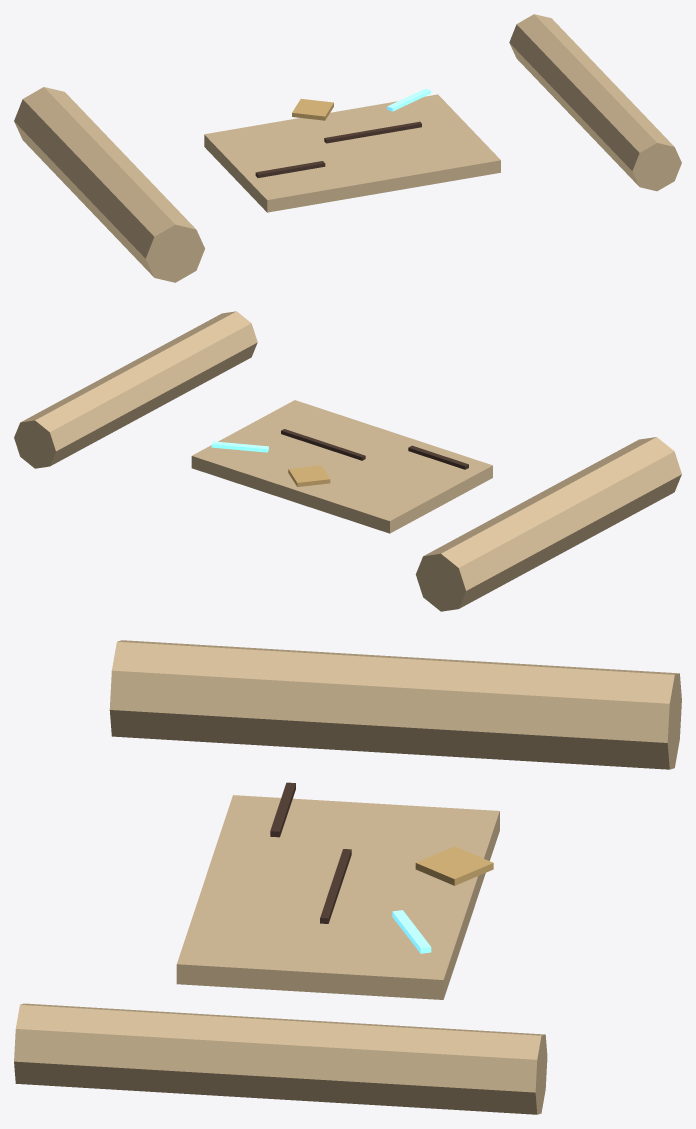
File: Manuscript.glb
3 renders of one model, top to bottom at view 1: azimuth 30°, elevation 25°; view 2: azimuth 150°, elevation 25°; view 3: azimuth 270°, elevation 25°, orthographic. The views are drawn at different scales.
Parts seen in each view (by area): view 1: Manuscript_sheet, Manuscript_roll_a, Manuscript_roll_b, Manuscript, Manuscript_seal; view 2: Manuscript_sheet, Manuscript_roll_a, Manuscript_roll_b, Manuscript, Manuscript_seal; view 3: Manuscript_roll_a, Manuscript_sheet, Manuscript_roll_b, Manuscript, Manuscript_seal.
Boxes of the visible parts, left/top/right/bottom form: Manuscript_sheet: left=204, top=94, right=500, bottom=212; Manuscript_roll_a: left=14, top=87, right=204, bottom=282; Manuscript_roll_b: left=509, top=14, right=681, bottom=191; Manuscript: left=255, top=88, right=430, bottom=177; Manuscript_seal: left=292, top=99, right=333, bottom=120; Manuscript_sheet: left=191, top=400, right=492, bottom=533; Manuscript_roll_a: left=415, top=437, right=681, bottom=611; Manuscript_roll_b: left=14, top=311, right=257, bottom=468; Manuscript: left=211, top=429, right=468, bottom=469; Manuscript_seal: left=288, top=465, right=330, bottom=486; Manuscript_roll_a: left=109, top=640, right=681, bottom=769; Manuscript_sheet: left=176, top=795, right=499, bottom=999; Manuscript_roll_b: left=14, top=1003, right=547, bottom=1114; Manuscript: left=270, top=782, right=431, bottom=953; Manuscript_seal: left=415, top=846, right=493, bottom=885.
Bounding box in the file's own units: 0.8182 × 0.084 × 0.5454.
